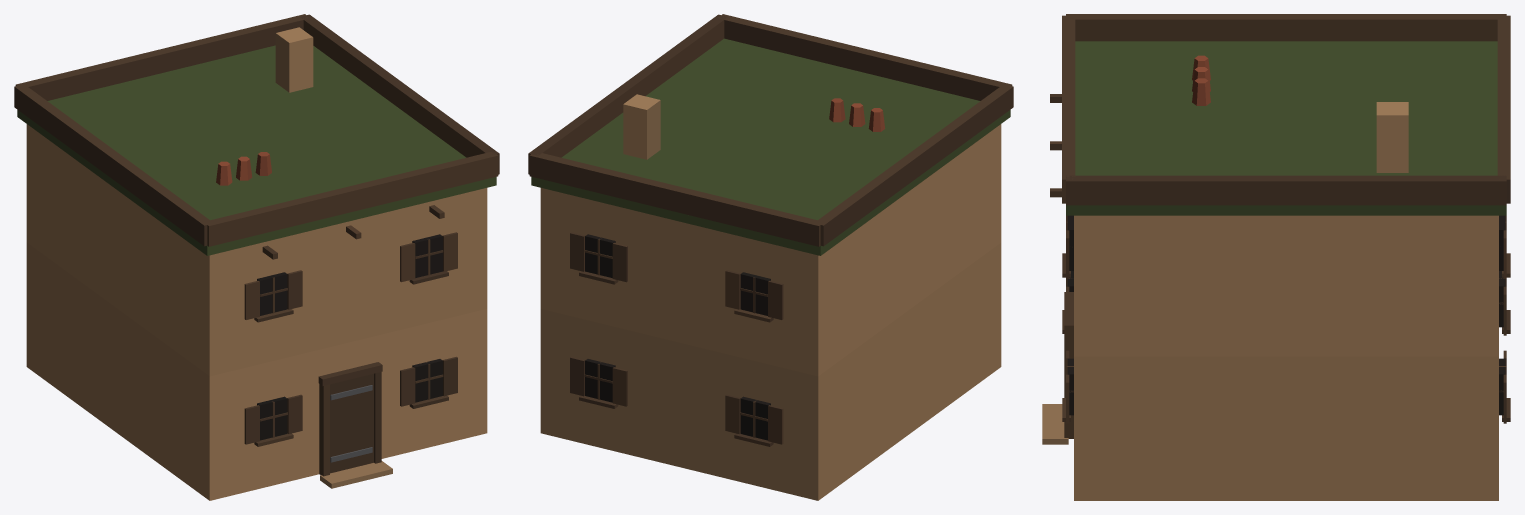
File: walk_steppe_tall.glb
The picture shows the model from 3 angles, left to right: view 1: azimuth 30°, elevation 25°; view 2: azimuth 150°, elevation 25°; view 3: azimuth 270°, elevation 25°; orthographic projection. The views are drawn at different scales.
Parts seen in each view (by area): view 1: walk_steppe_tall, walk_steppe_tall_roof; view 2: walk_steppe_tall, walk_steppe_tall_roof; view 3: walk_steppe_tall, walk_steppe_tall_roof.
Part boxes in pixels (<box>): walk_steppe_tall: <box>26,124,487,500</box>; walk_steppe_tall_roof: <box>14,14,499,255</box>; walk_steppe_tall: <box>540,124,1001,500</box>; walk_steppe_tall_roof: <box>528,14,1013,255</box>; walk_steppe_tall: <box>1042,94,1510,500</box>; walk_steppe_tall_roof: <box>1062,14,1510,215</box>.
Size of what is drawn, in the model's own units: 7.45 by 7.6 by 8.82.
2 materials, 2 textured.
